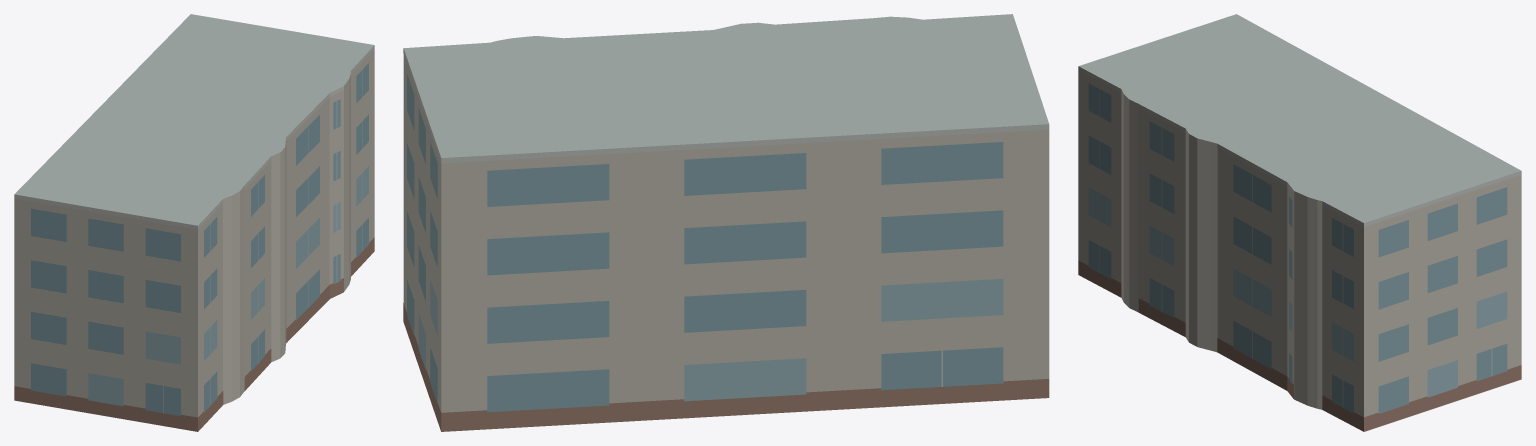
Rendered from survey-upis-32703475.glb.
3 renders of one model, left to right at view 1: azimuth 30°, elevation 25°; view 2: azimuth 150°, elevation 25°; view 3: azimuth 270°, elevation 25°, orthographic. The views are drawn at different scales.
Parts seen in each view (by area): view 1: survey-upis-32703475.tmp; view 2: survey-upis-32703475.tmp; view 3: survey-upis-32703475.tmp.
Boxes of the visible parts, x1=… form: survey-upis-32703475.tmp: x1=14, y1=14, x2=374, y2=431; survey-upis-32703475.tmp: x1=403, y1=14, x2=1049, y2=431; survey-upis-32703475.tmp: x1=1078, y1=14, x2=1521, y2=431.
Bounding box in the file's own units: 26.44 × 12.3 × 23.67.
